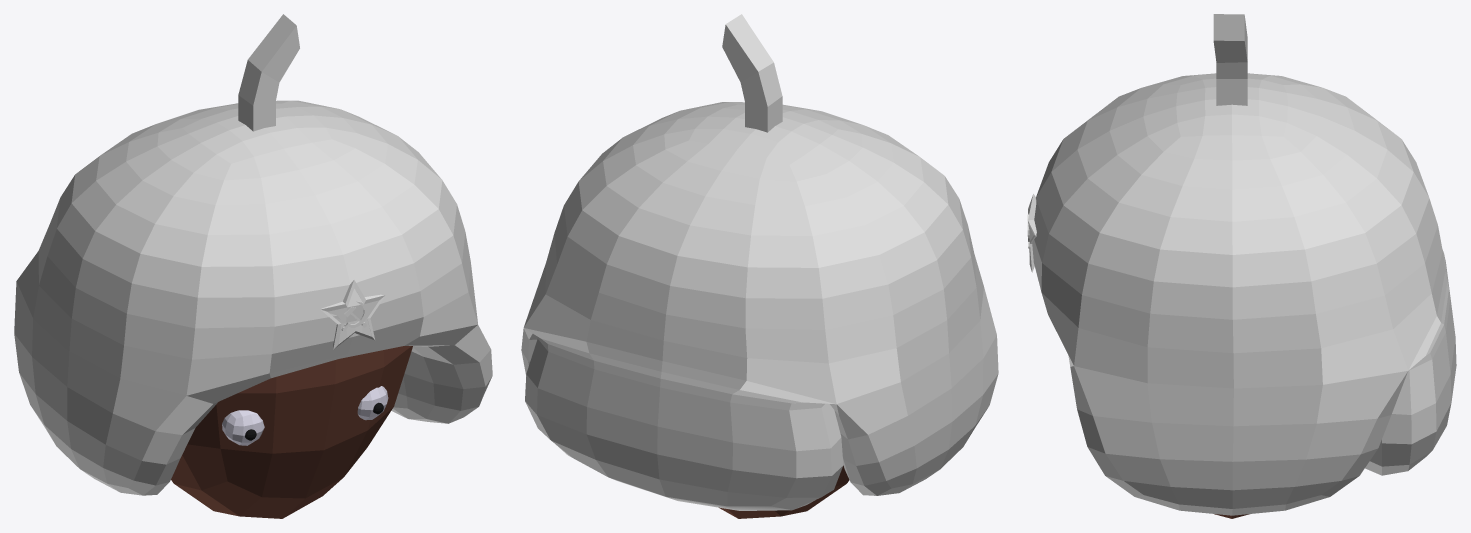
The model's file is PikuroBellota.fbx.
The picture shows the model from 3 angles, left to right: view 1: azimuth 30°, elevation 25°; view 2: azimuth 150°, elevation 25°; view 3: azimuth 270°, elevation 25°; orthographic projection. The views are drawn at different scales.
Parts seen in each view (by area): view 1: CabezaBellota, CuerpoBellota, PuntitaBellota, EstrellaBase, Ojos, Ojos.002; view 2: CabezaBellota, PuntitaBellota, CuerpoBellota; view 3: CabezaBellota, PuntitaBellota, EstrellaBase.
Part boxes in pixels (box(x1,y1,x2,y2)): CabezaBellota: box(14, 100, 492, 495); CuerpoBellota: box(171, 346, 412, 518); PuntitaBellota: box(238, 14, 299, 131); EstrellaBase: box(320, 280, 385, 349); Ojos: box(222, 410, 264, 445); Ojos.002: box(357, 386, 388, 420); CabezaBellota: box(521, 102, 998, 510); PuntitaBellota: box(722, 14, 782, 132); CuerpoBellota: box(719, 465, 849, 518); CabezaBellota: box(1032, 73, 1456, 515); PuntitaBellota: box(1213, 14, 1247, 105); EstrellaBase: box(1027, 194, 1036, 272).
Bounding box in the file's own units: 394 × 483 × 367.
